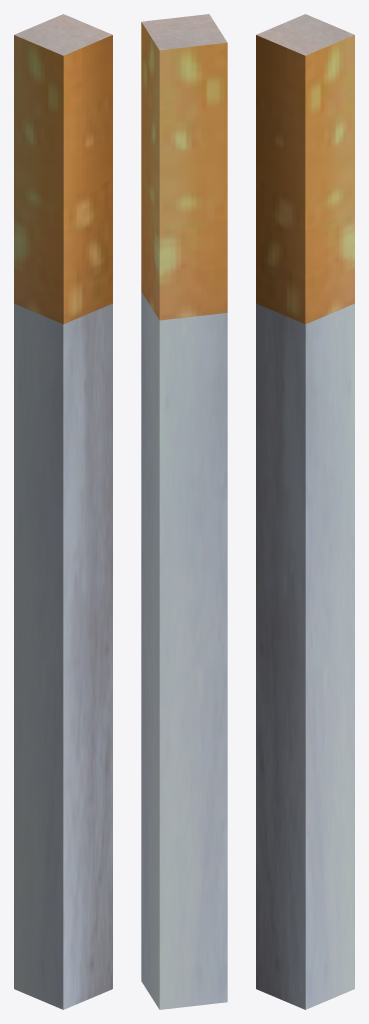
Rendered from CigaretteFull.obj.
3 renders of one model, left to right at view 1: azimuth 90°, elevation 25°; view 2: azimuth 150°, elevation 25°; view 3: azimuth 270°, elevation 25°, orthographic.
Parts seen in each view (by area): view 1: CigaretteFull; view 2: CigaretteFull; view 3: CigaretteFull.
Part boxes in pixels (left/top/right/bottom): CigaretteFull: left=14, top=14, right=112, bottom=1009; CigaretteFull: left=141, top=14, right=227, bottom=1009; CigaretteFull: left=256, top=14, right=354, bottom=1009.
Bounding box in the file's own units: 0.1047 × 1.11 × 0.1047.
